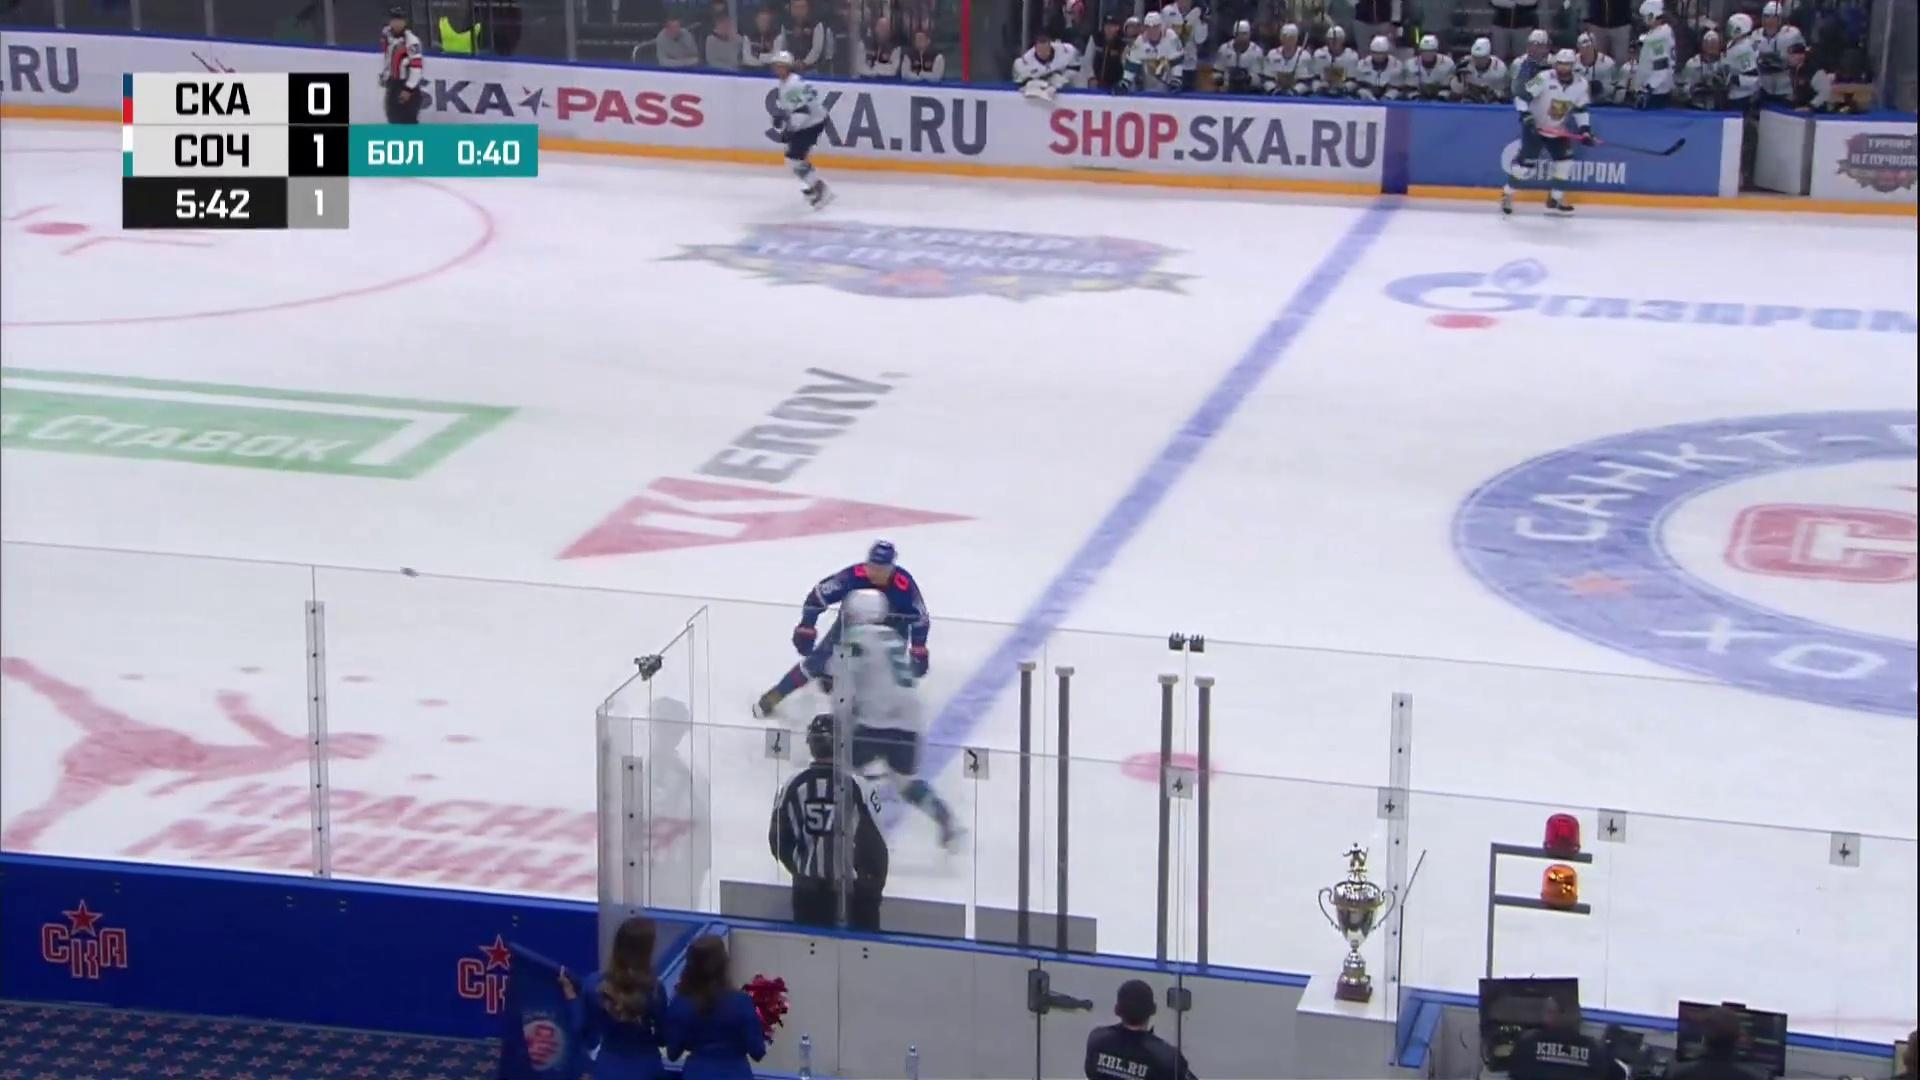ball: (400, 567, 419, 578)
